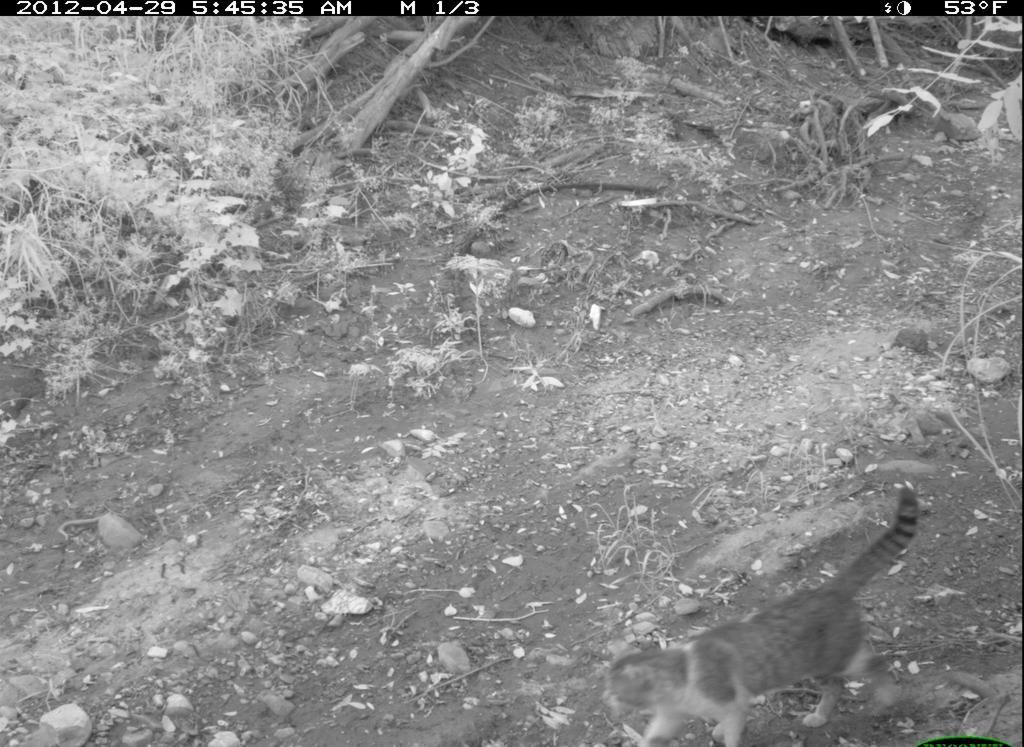cat: (587, 468, 961, 742)
